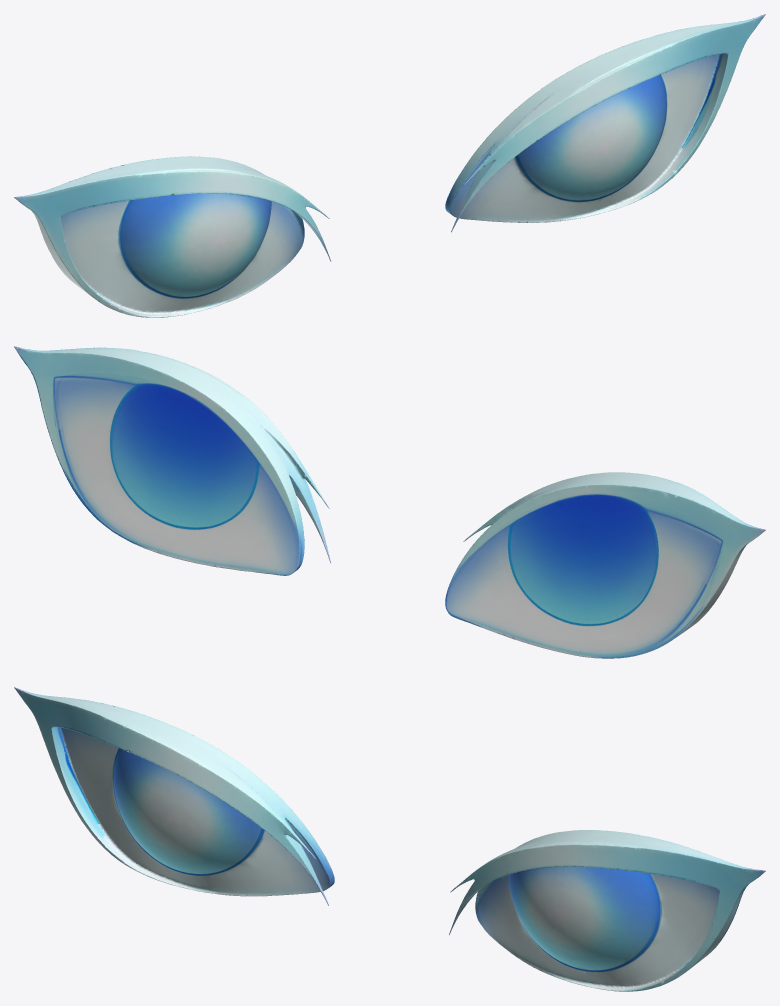
Rendered from sade.glb.
3 renders of one model, top to bottom at view 1: azimuth 30°, elevation 25°; view 2: azimuth 150°, elevation 25°; view 3: azimuth 330°, elevation 25°, orthographic.
Bounding box in the file's own units: 1.9 × 0.3931 × 0.201.
Materials: 1 (1 with a texture image).
